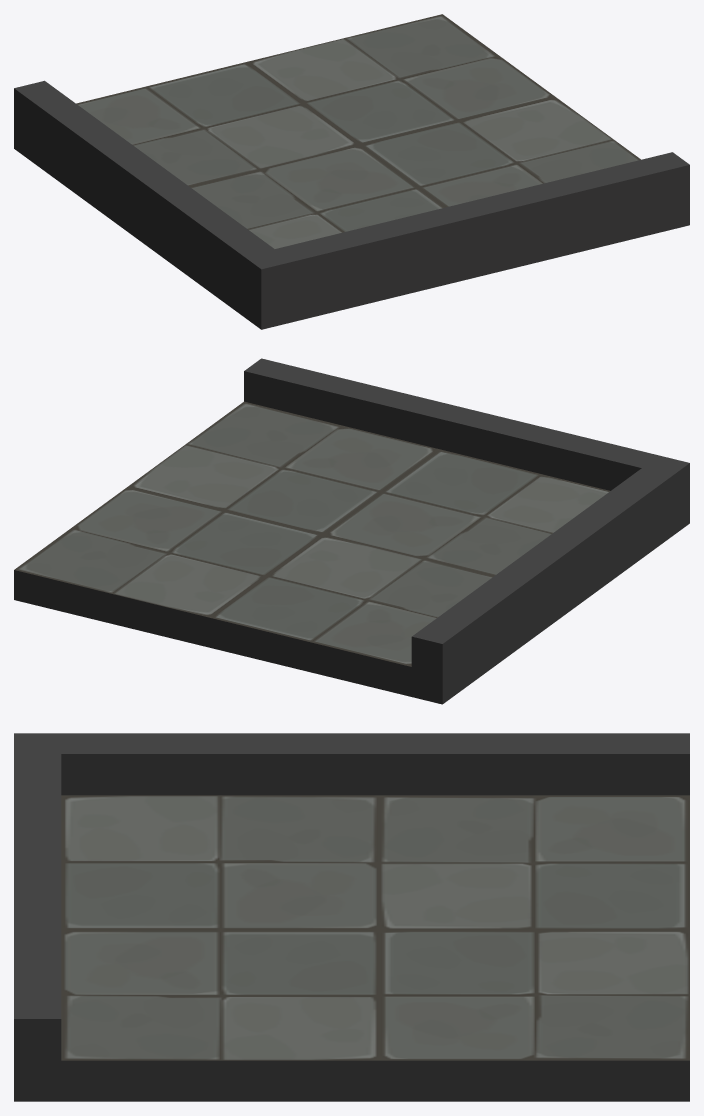
File: RoofTop_D03.fbx
3 views of the same model, one above another, from view 1: azimuth 30°, elevation 25°; view 2: azimuth 150°, elevation 25°; view 3: azimuth 270°, elevation 25° (orthographic). The views are drawn at different scales.
Visible parts, largest first — view 1: RoofTop_D03; view 2: RoofTop_D03; view 3: RoofTop_D03.
Part boxes in pixels (x1,y1,x2,y2): RoofTop_D03: (14, 14, 689, 329); RoofTop_D03: (14, 358, 689, 704); RoofTop_D03: (14, 733, 689, 1101).
Bounding box in the file's own units: 608 × 81.97 × 608.
